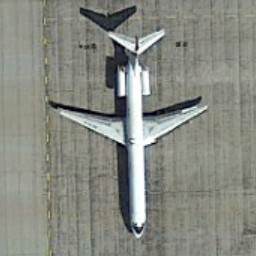Airplane: (45, 18, 215, 245)
